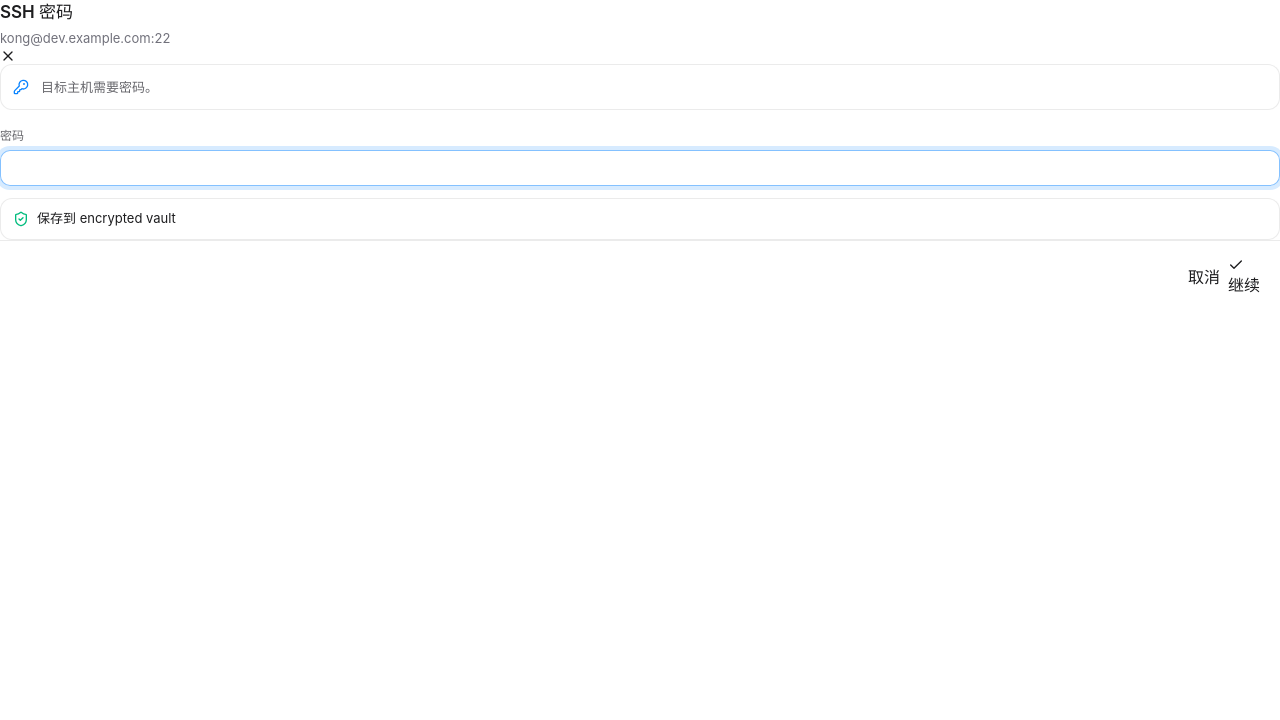
Test: SshAuthPromptHost › clears a previous submission error when the next prompt becomes current
In the password field labelled "密码": (640, 168) [0, 150, 1279, 186], type "secret-password"
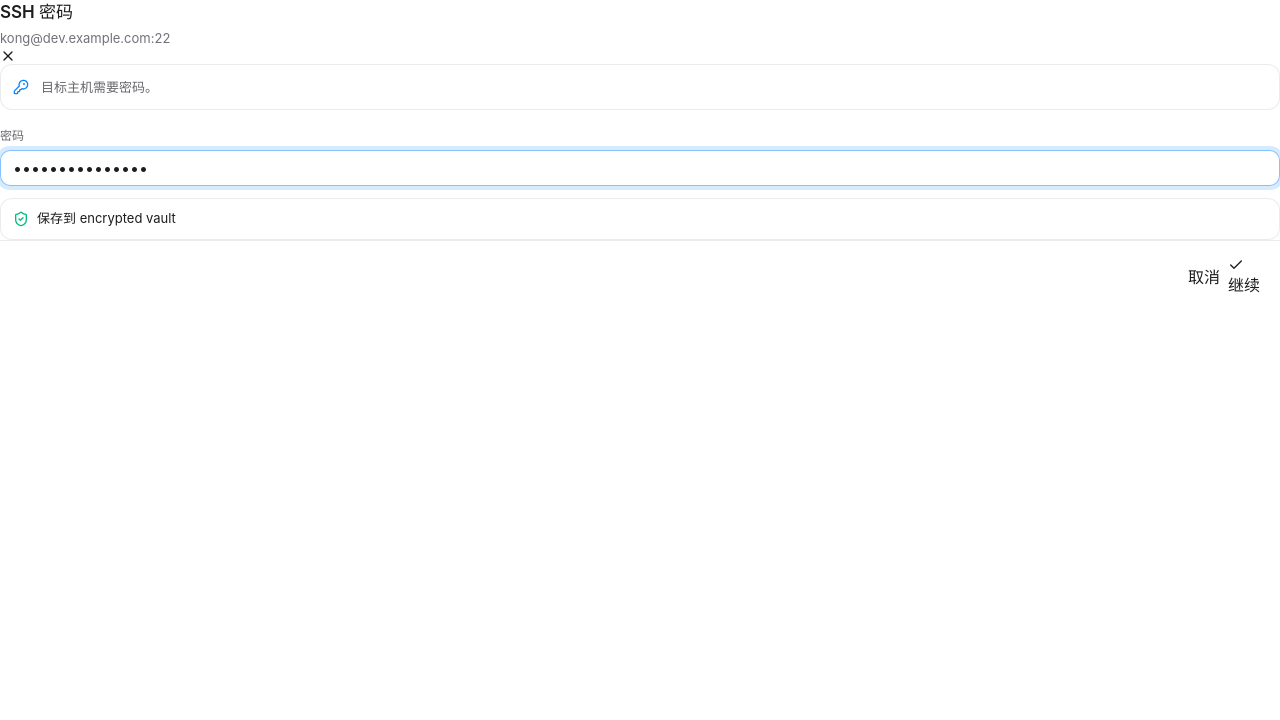
Click the button "继续": (1244, 276) [1228, 256, 1260, 296]
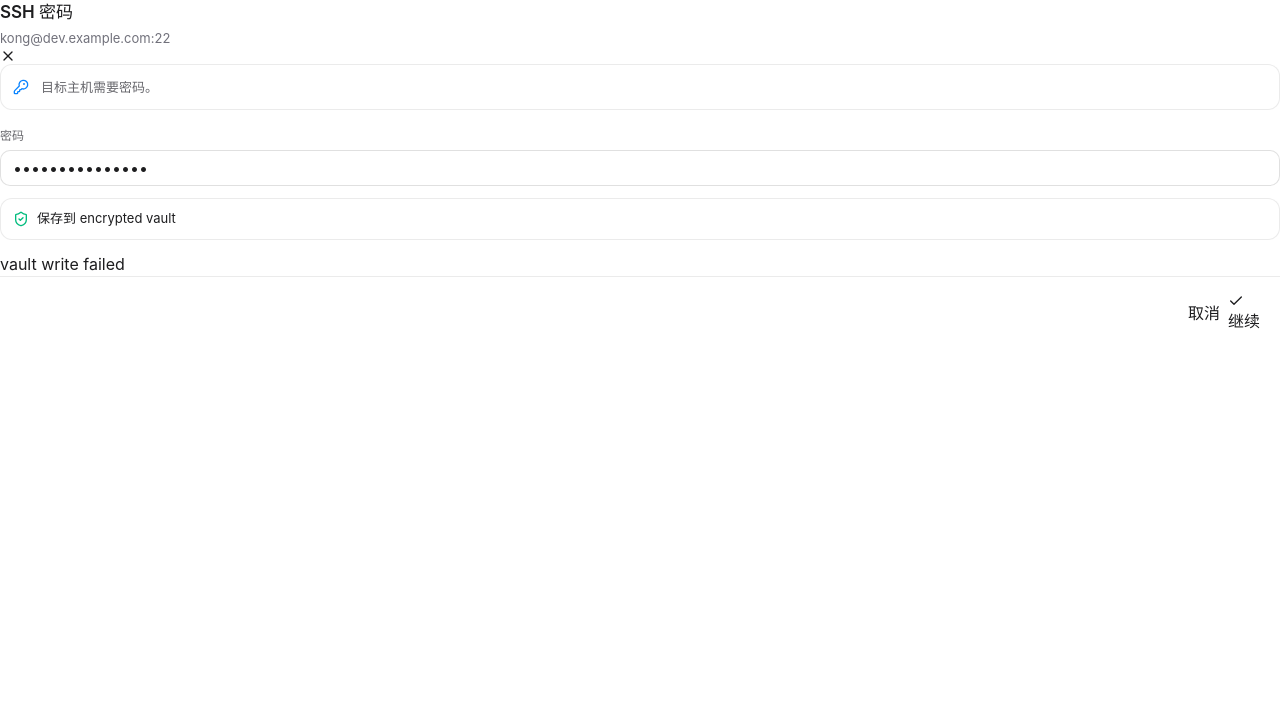
expect the message reads "vault write failed": met, box [0, 254, 125, 274]
Click the button "取消": (1204, 312) [1188, 292, 1220, 332]
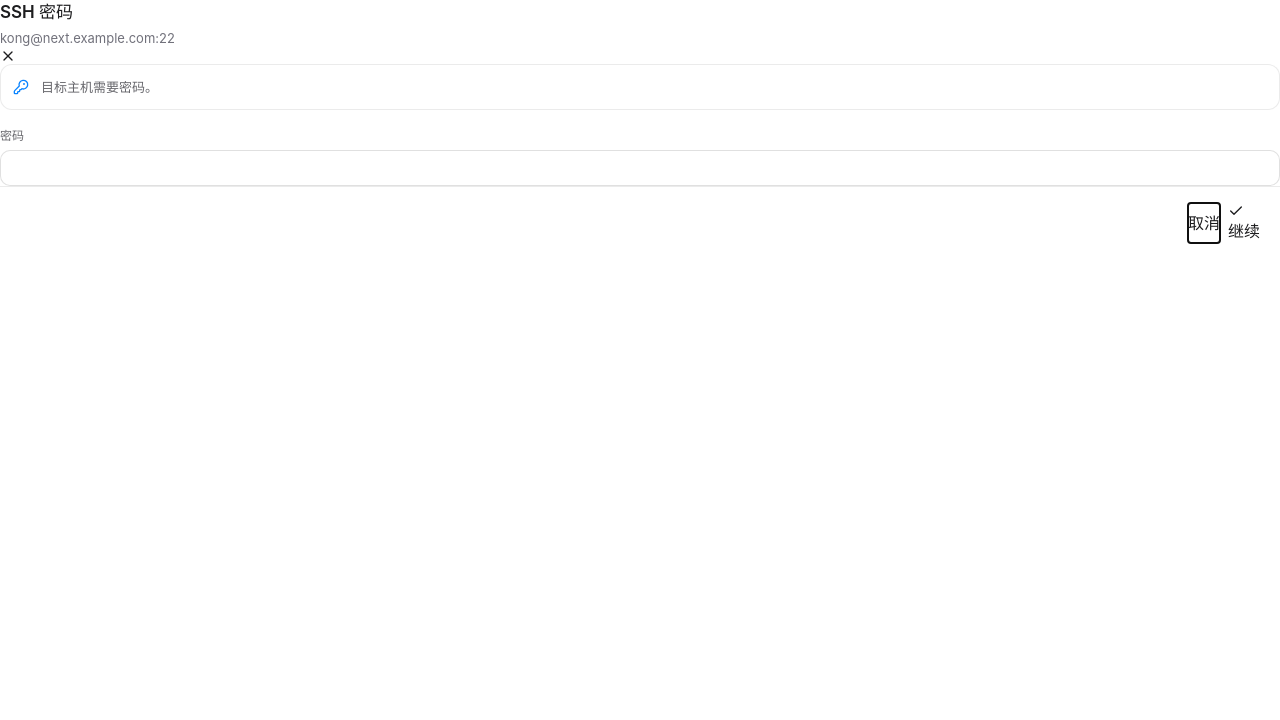
expect the text "kong@next.example.com:22" is shown: met, box [0, 30, 175, 46]
expect the text "vault write failed" is gone: met
